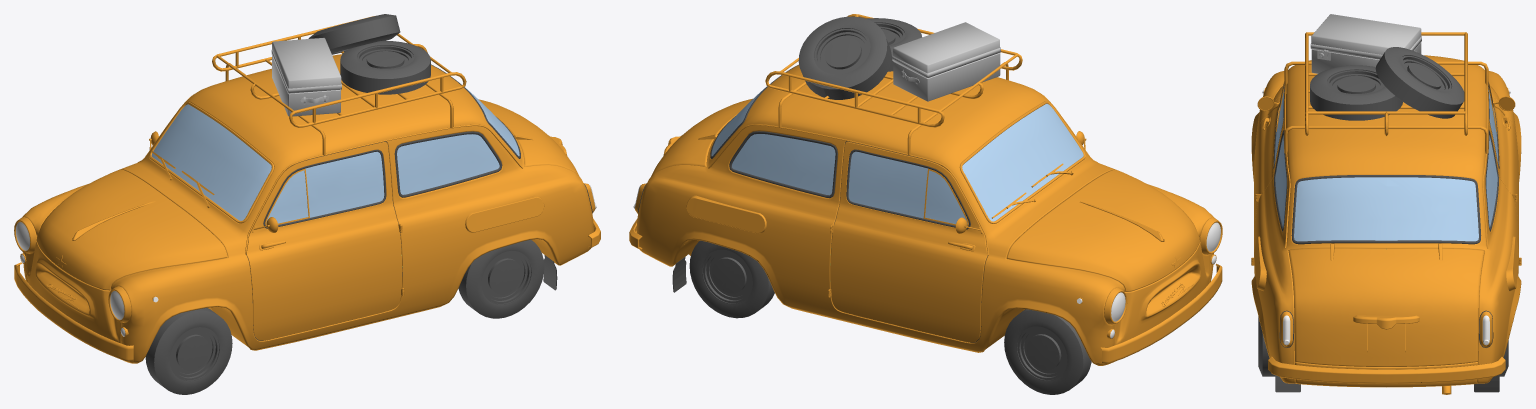
Rendered from Car.fbx.
3 renders of one model, left to right at view 1: azimuth 30°, elevation 25°; view 2: azimuth 150°, elevation 25°; view 3: azimuth 270°, elevation 25°, orthographic. The views are drawn at different scales.
Parts seen in each view (by area): view 1: car_body, back_door; view 2: car_body, back_door; view 3: car_body, back_door.
Boxes of the visible parts, bbox=[...] form: car_body: bbox=[14, 14, 600, 394]; back_door: bbox=[479, 99, 579, 176]; car_body: bbox=[629, 14, 1222, 394]; back_door: bbox=[651, 98, 752, 176]; car_body: bbox=[1251, 14, 1521, 394]; back_door: bbox=[1288, 243, 1484, 366].
Size of the model in its own units: 328 by 168 by 147.
